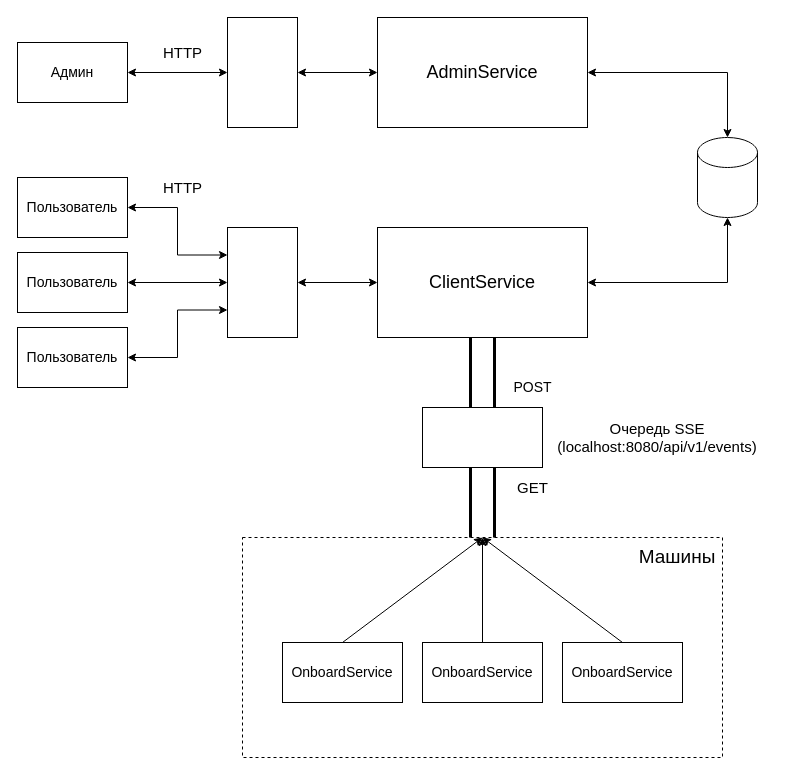
This 800x775 diagram has some shape labels left out. The shapes that lost their labels are listed below. From the top down, each one's centre as x and y in pixels, then its label:
At point (262, 72): "AdminApi".
At point (727, 177): "DB".
At point (262, 282): "ClientApi".
At point (482, 437): "CarServiceApi".
